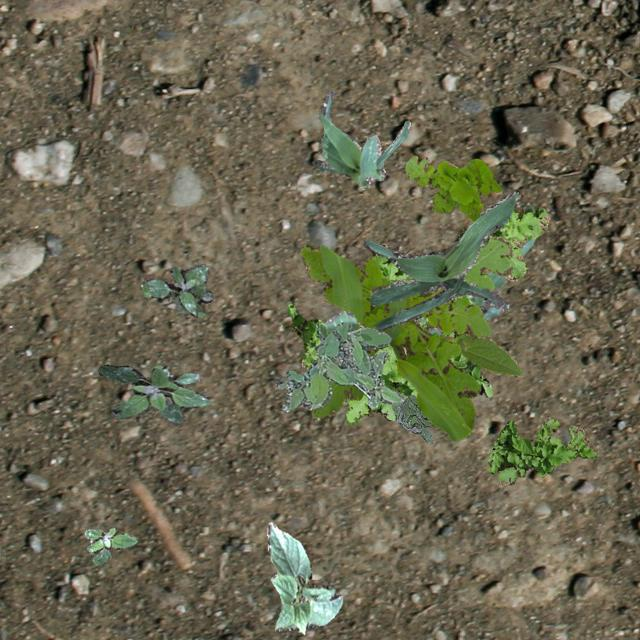crop: (361, 192, 517, 331), (323, 238, 533, 334), (312, 90, 409, 188), (266, 522, 342, 634), (420, 320, 522, 376)
weed: (299, 235, 512, 440), (286, 204, 548, 370), (344, 252, 490, 424), (274, 322, 404, 411), (486, 416, 596, 486), (96, 364, 208, 424), (404, 154, 500, 222), (140, 264, 212, 316), (390, 393, 432, 442), (84, 526, 136, 564)
